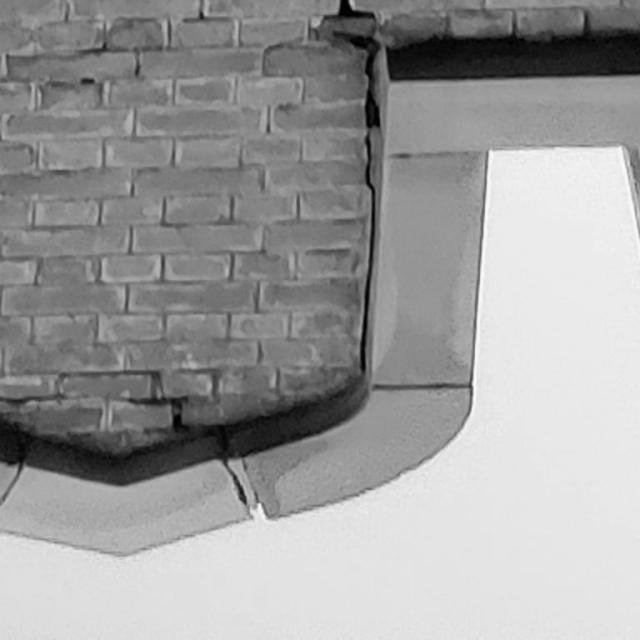crack: (336, 1, 379, 374), (128, 397, 186, 431)
